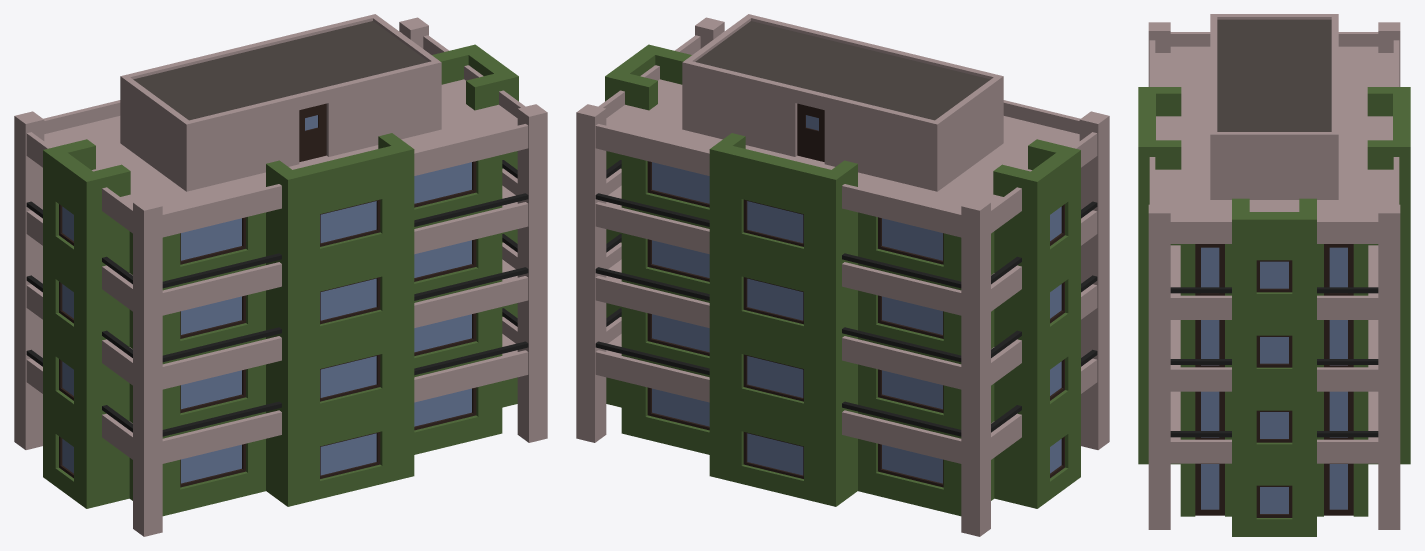
The model's file is ApartmentBuilding_03.fbx.
3 renders of one model, left to right at view 1: azimuth 30°, elevation 25°; view 2: azimuth 150°, elevation 25°; view 3: azimuth 270°, elevation 25°, orthographic. The views are drawn at different scales.
Parts seen in each view (by area): view 1: ApartmentBuilding_03; view 2: ApartmentBuilding_03; view 3: ApartmentBuilding_03.
Part boxes in pixels (x1,y1,x2,y2): ApartmentBuilding_03: (14,14,547,536); ApartmentBuilding_03: (576,14,1109,536); ApartmentBuilding_03: (1138,14,1410,536).
Bounding box in the file's own units: 16.8 × 13.77 × 9.43.
